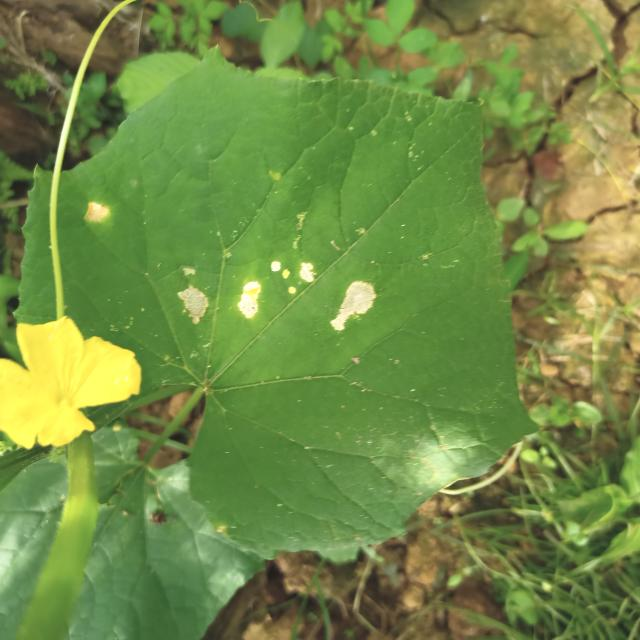disease_cucumber: (171, 256, 378, 334), (84, 198, 113, 225)
